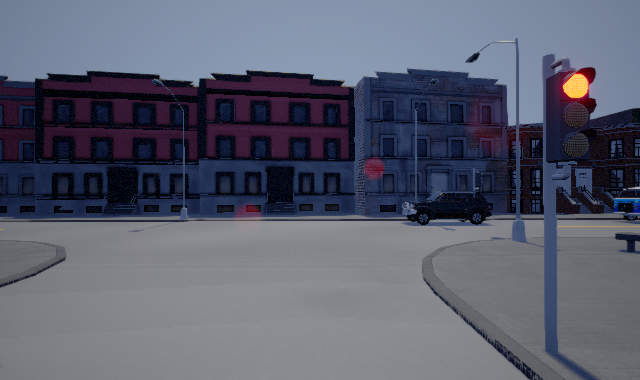traffic_light: (546, 57, 597, 180)
vehicle: (402, 190, 492, 225), (613, 187, 640, 221)
